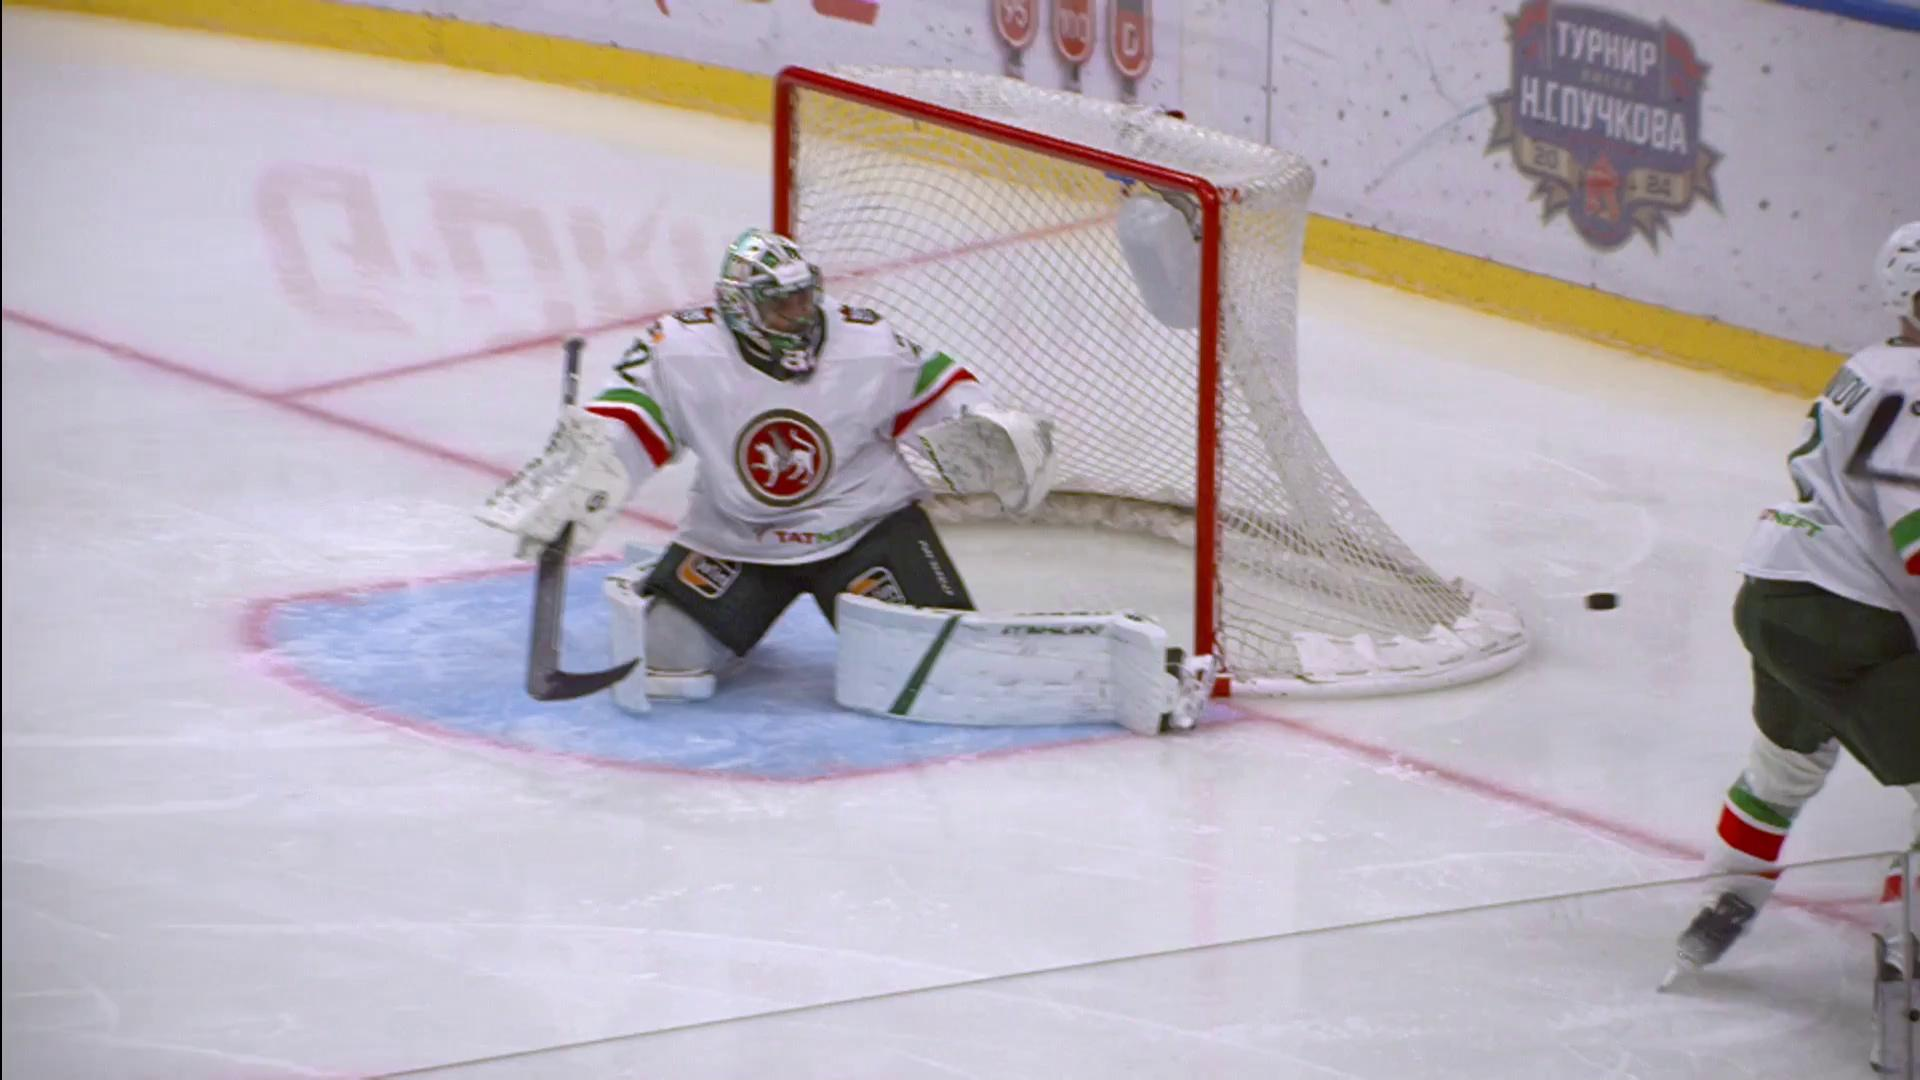ball: (1585, 589, 1618, 613)
